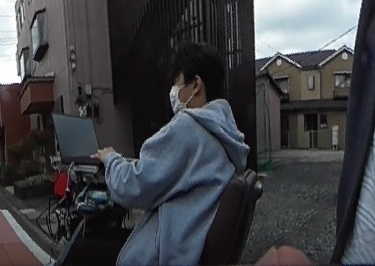person: (89, 40, 248, 266)
